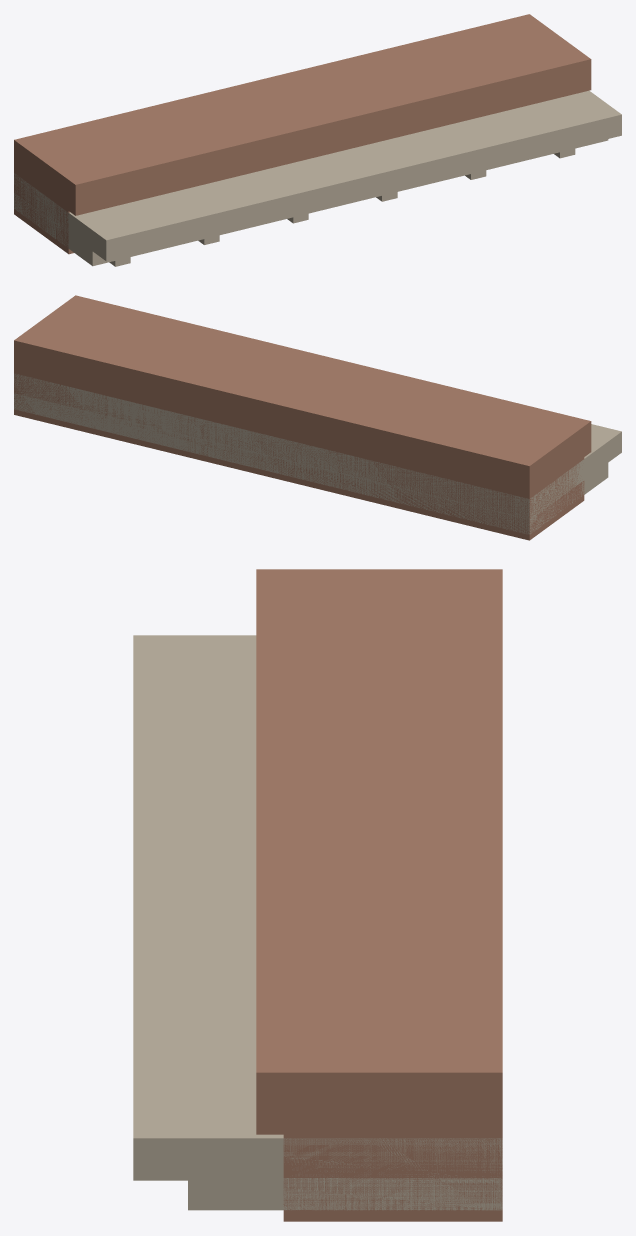
Rendered from cittaMattoneTetto.glb.
3 renders of one model, top to bottom at view 1: azimuth 30°, elevation 25°; view 2: azimuth 150°, elevation 25°; view 3: azimuth 270°, elevation 25°, orthographic. The views are drawn at different scales.
Parts seen in each view (by area): view 1: cittaMattoneTetto_cittaMattone, cittaMattoneTetto_stone; view 2: cittaMattoneTetto_cittaMattone, cittaMattoneTetto_stone; view 3: cittaMattoneTetto_cittaMattone, cittaMattoneTetto_stone.
Part boxes in pixels (box(x1,y1,x2,y2)): cittaMattoneTetto_cittaMattone: box(14, 14, 591, 254); cittaMattoneTetto_stone: box(14, 90, 621, 266); cittaMattoneTetto_cittaMattone: box(14, 295, 591, 540); cittaMattoneTetto_stone: box(14, 373, 621, 534); cittaMattoneTetto_cittaMattone: box(256, 569, 502, 1221); cittaMattoneTetto_stone: box(133, 635, 502, 1210).
Size of the model in its own units: 8.7 by 1.29 by 2.7.
